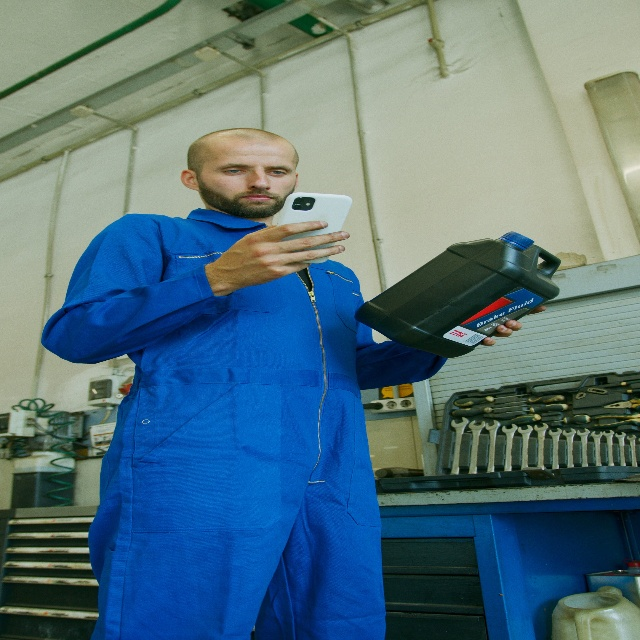Sin_guantes: (217, 219, 350, 294), (480, 319, 521, 347)
